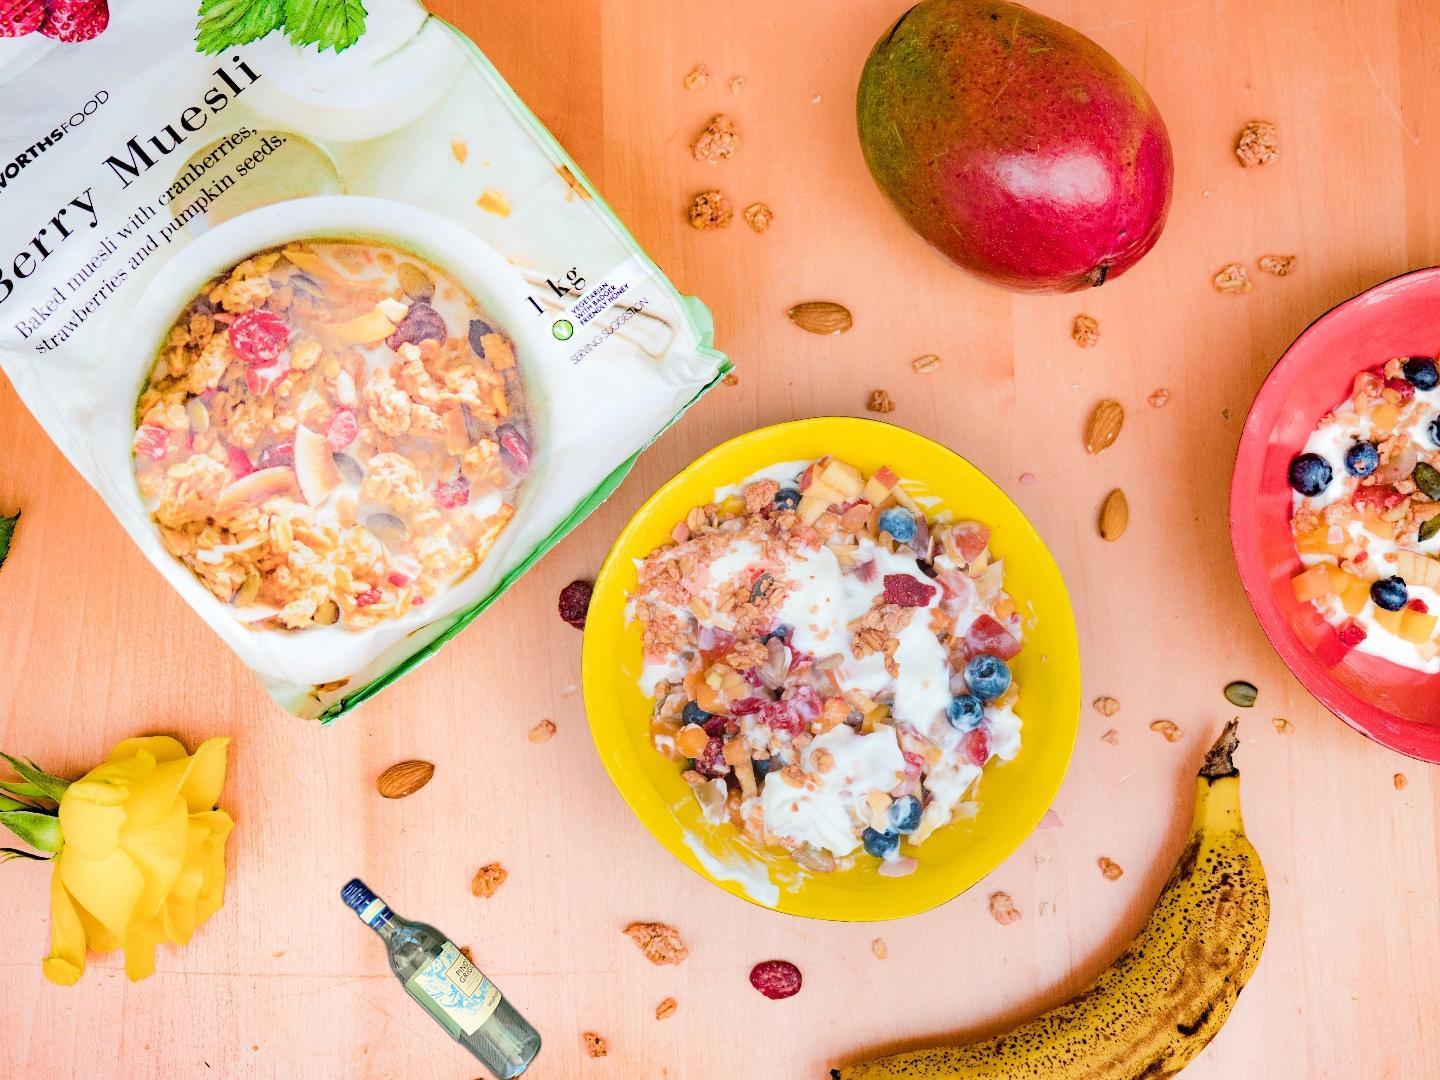glass: (337, 872, 545, 1080)
trashbox-cardboard: (1102, 1007, 1440, 1080)
